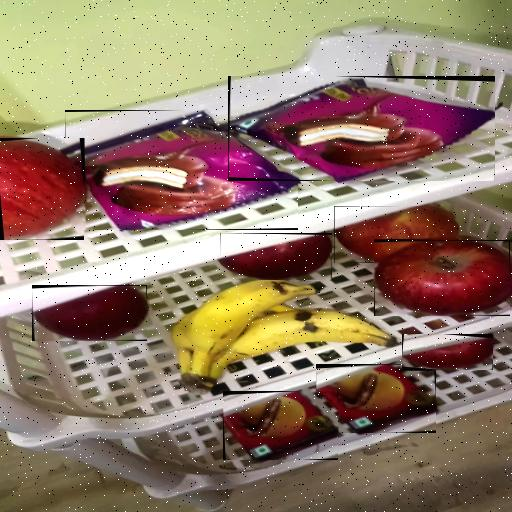Apple: (374, 240, 510, 316), (0, 138, 84, 240), (334, 206, 459, 263), (32, 285, 147, 341), (220, 233, 332, 280), (402, 334, 493, 370)
Choco Fills: (316, 364, 436, 433), (223, 391, 338, 460)
Choco Pie: (228, 76, 495, 181), (65, 110, 298, 230)
